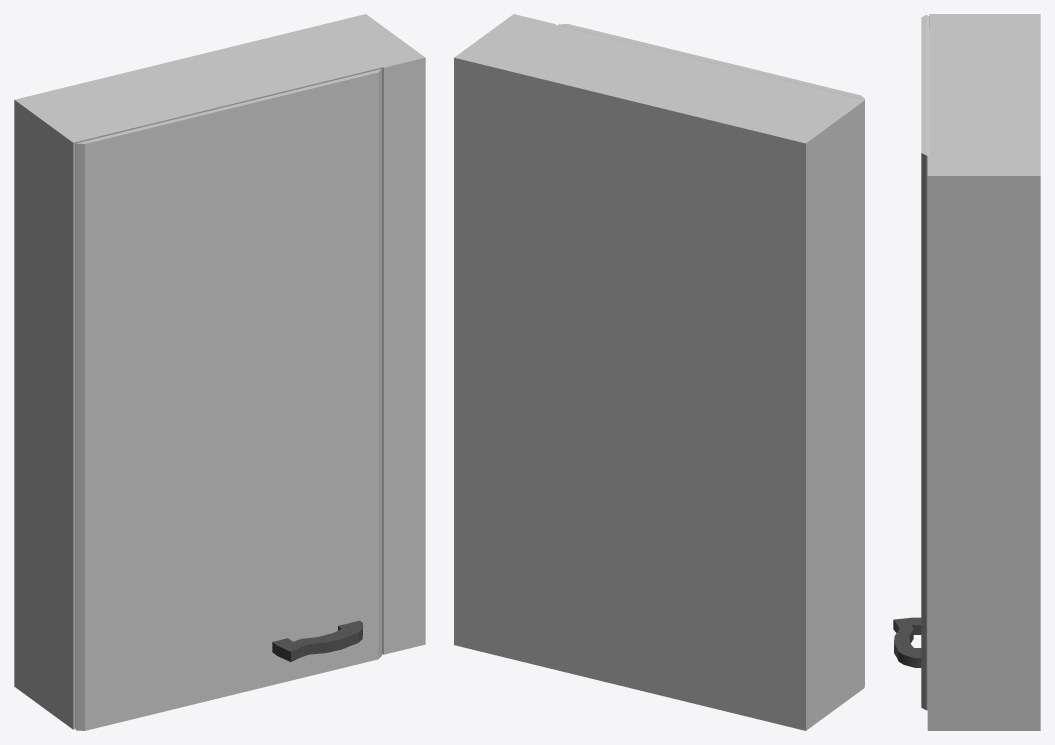
The model's file is electricity_panel_02.fbx.
The picture shows the model from 3 angles, left to right: view 1: azimuth 30°, elevation 25°; view 2: azimuth 150°, elevation 25°; view 3: azimuth 270°, elevation 25°; orthographic projection. The views are drawn at different scales.
Visible parts, largest first — view 1: electricity_panel_02; view 2: electricity_panel_02; view 3: electricity_panel_02.
Boxes of the visible parts, left/top/right/bottom form: electricity_panel_02: left=14, top=14, right=425, bottom=730; electricity_panel_02: left=454, top=14, right=864, bottom=730; electricity_panel_02: left=893, top=14, right=1040, bottom=730.
Bounding box in the file's own units: 96.14 × 153 × 36.87.
